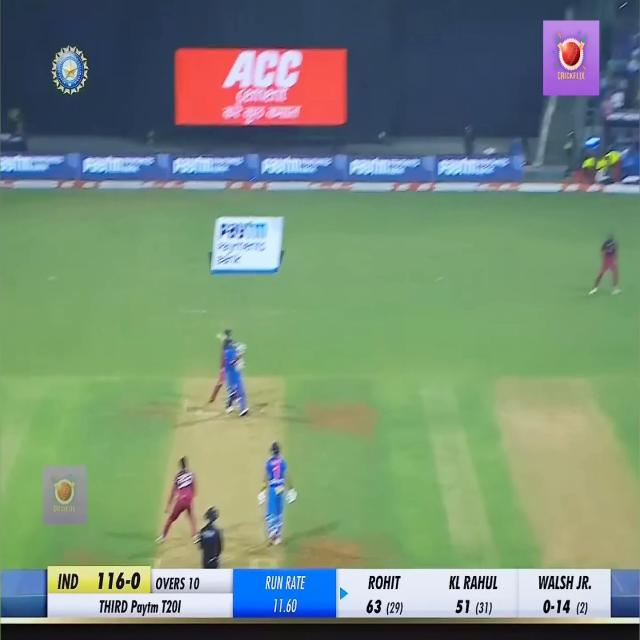fully_visible: (217, 210, 269, 243), (125, 594, 161, 620)
